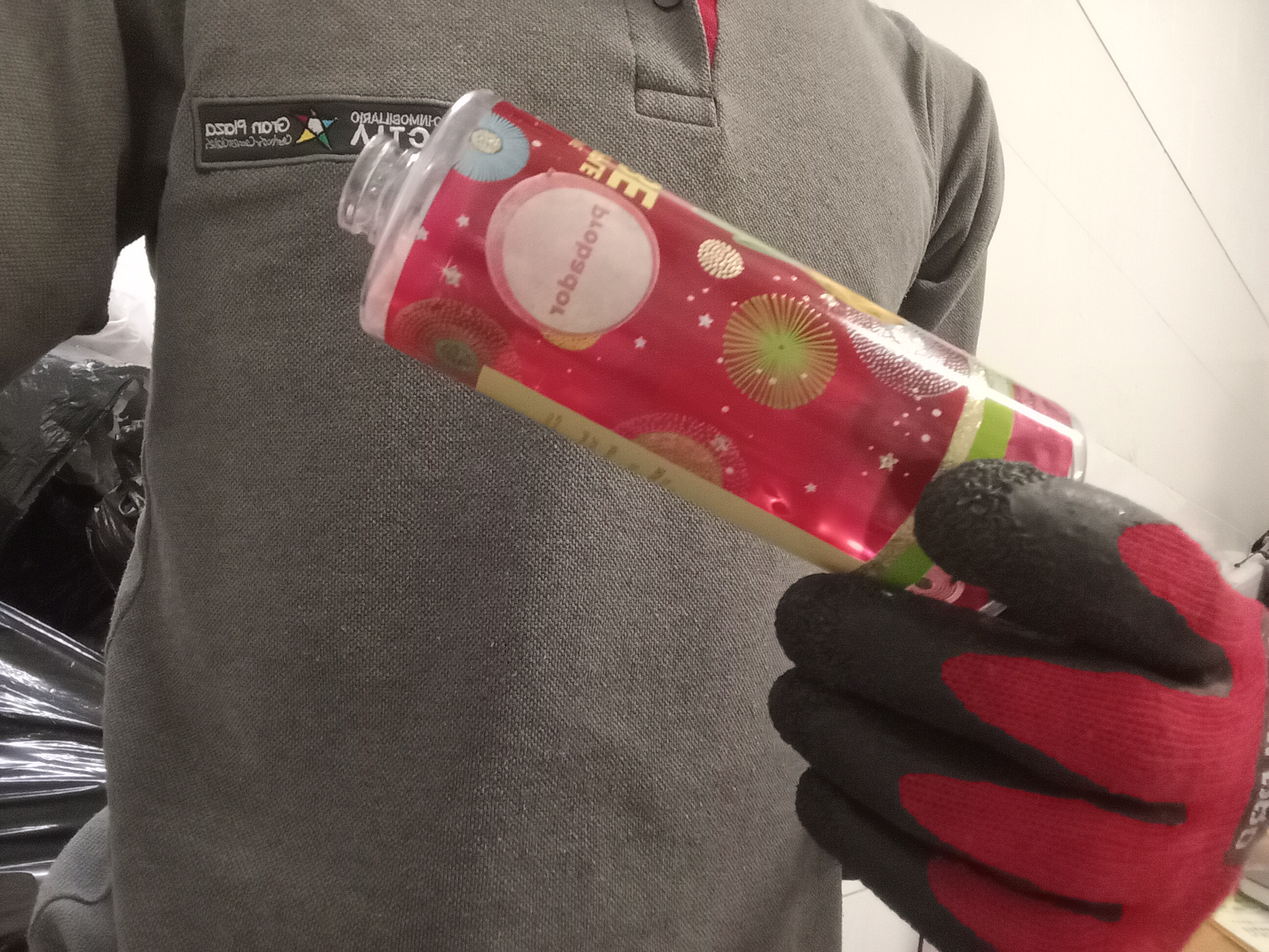Plastico: (336, 89, 1086, 615)
